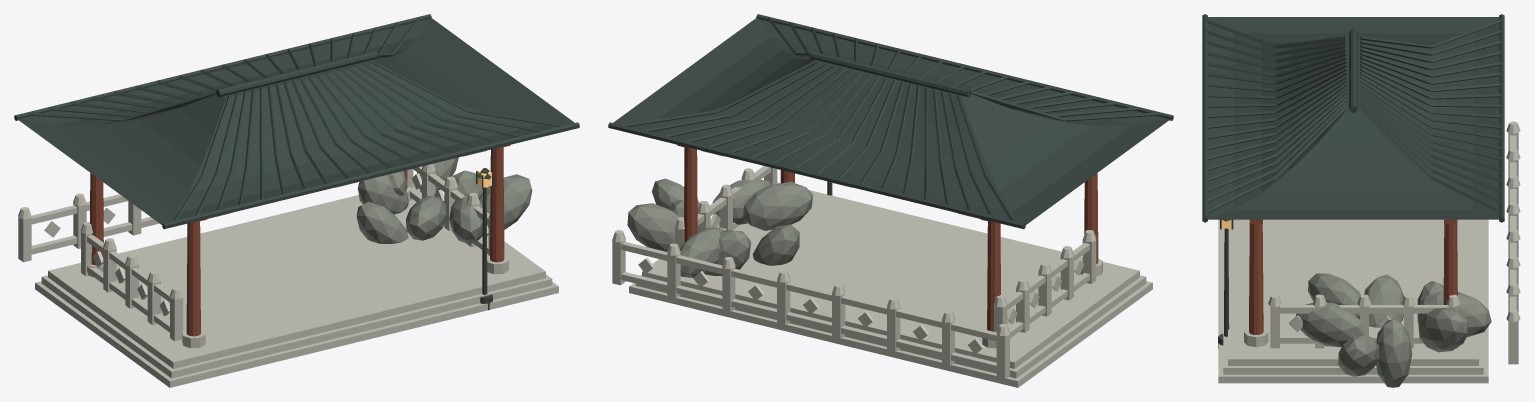
Rendered from gushan.glb.
The picture shows the model from 3 angles, left to right: view 1: azimuth 30°, elevation 25°; view 2: azimuth 150°, elevation 25°; view 3: azimuth 270°, elevation 25°; orthographic projection.
Parts seen in each view (by area): view 1: Dark_Tile, Limestone, Garden_Stone, Lacquered_Wood, Patinated_Iron; view 2: Dark_Tile, Limestone, Garden_Stone, Lacquered_Wood; view 3: Dark_Tile, Limestone, Garden_Stone, Lacquered_Wood, Patinated_Iron.
Boxes of the visible parts, <box> form: Dark_Tile: <box>14,14,579,229</box>; Limestone: <box>18,150,558,387</box>; Garden_Stone: <box>356,157,532,244</box>; Lacquered_Wood: <box>90,145,510,336</box>; Patinated_Iron: <box>476,168,493,310</box>; Dark_Tile: <box>608,14,1173,229</box>; Limestone: <box>612,150,1152,387</box>; Garden_Stone: <box>627,178,813,277</box>; Lacquered_Wood: <box>677,145,1098,331</box>; Dark_Tile: <box>1202,14,1504,222</box>; Limestone: <box>1218,121,1520,383</box>; Garden_Stone: <box>1296,273,1491,387</box>; Lacquered_Wood: <box>1249,219,1457,334</box>; Patinated_Iron: <box>1218,219,1233,348</box>.
Size of the model in its own units: 9.67 by 4.77 by 6.01.
